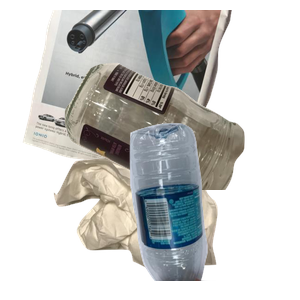glass: (62, 60, 300, 240)
paper: (20, 10, 244, 190)
plastic: (127, 120, 300, 300)
trash: (51, 155, 261, 300)
